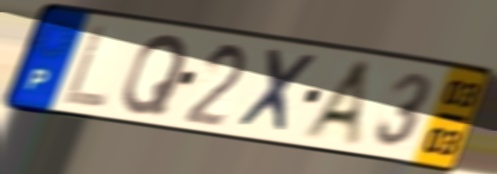2: (179, 40, 252, 128)
3: (374, 71, 434, 150)
A: (299, 58, 377, 151)
L: (59, 21, 112, 111)
Q: (119, 31, 191, 117)
X: (232, 45, 321, 138)
